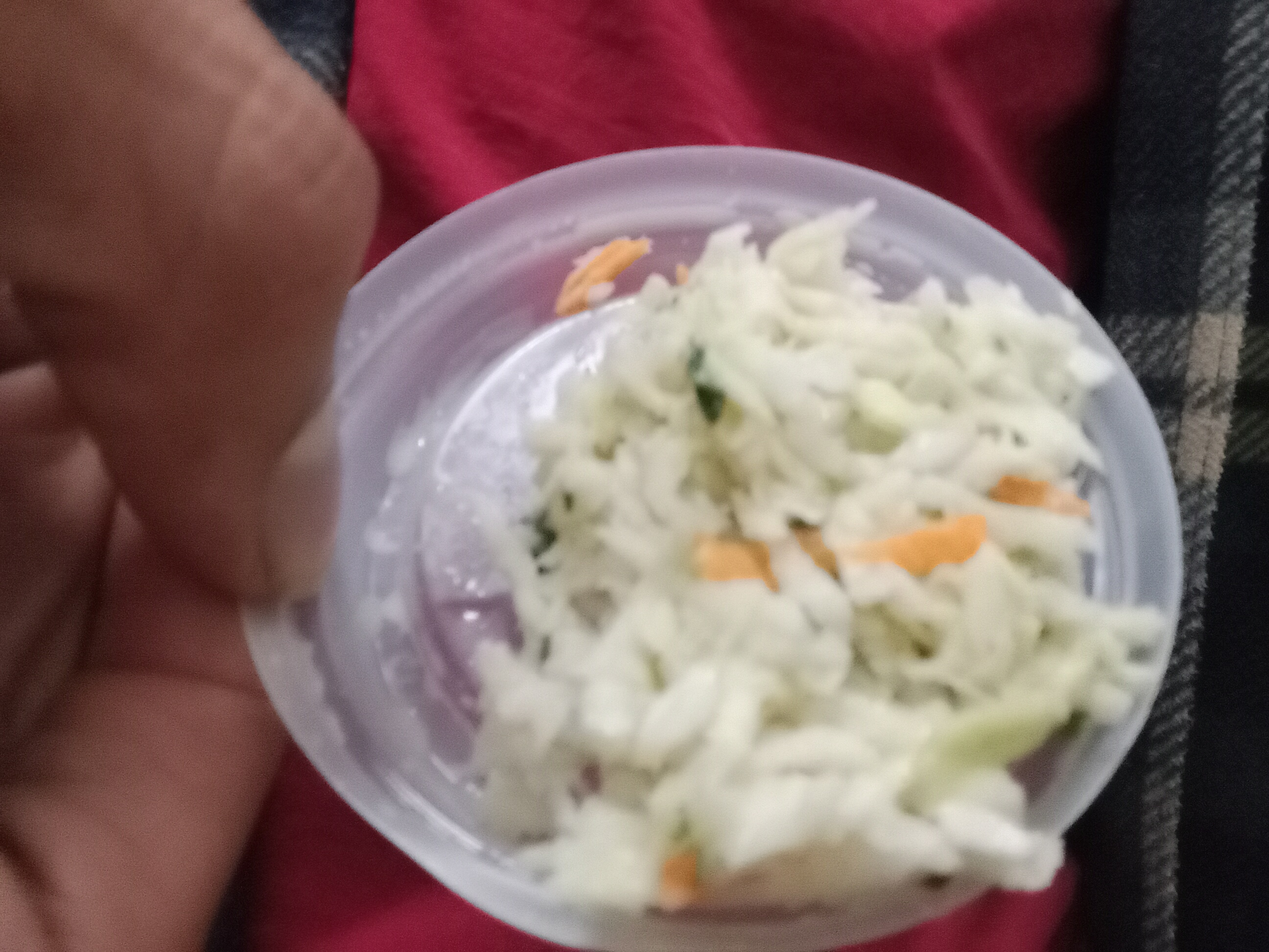Organico: (500, 206, 1163, 924)
